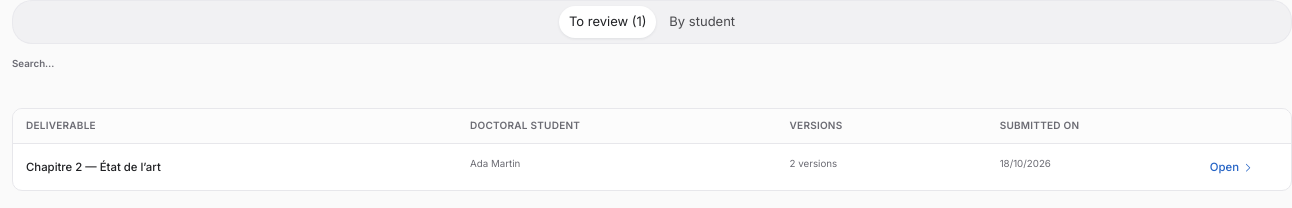
deliverables › opens submitted documents directly from the supervisor review queue
This screenshot has width=1292, height=208.
Expected: the text "2 versions" is shown, x1=780 y1=144 x2=990 y2=190
Click the tab "By student". click: {"x": 702, "y": 22}
box: x1=660 y1=6 x2=745 y2=38
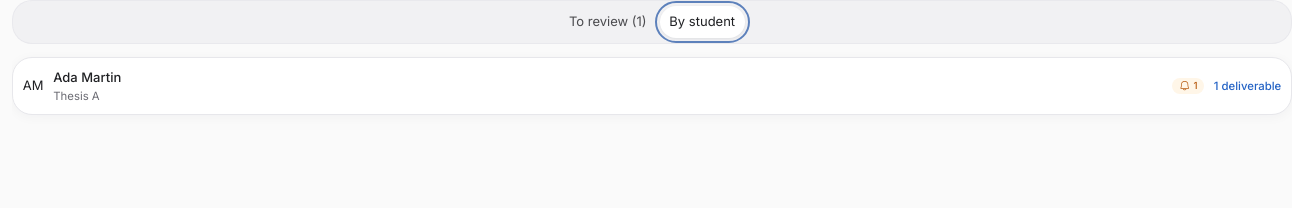
Expected: the text "Thesis A" is shown, x1=53 y1=88 x2=100 y2=102
